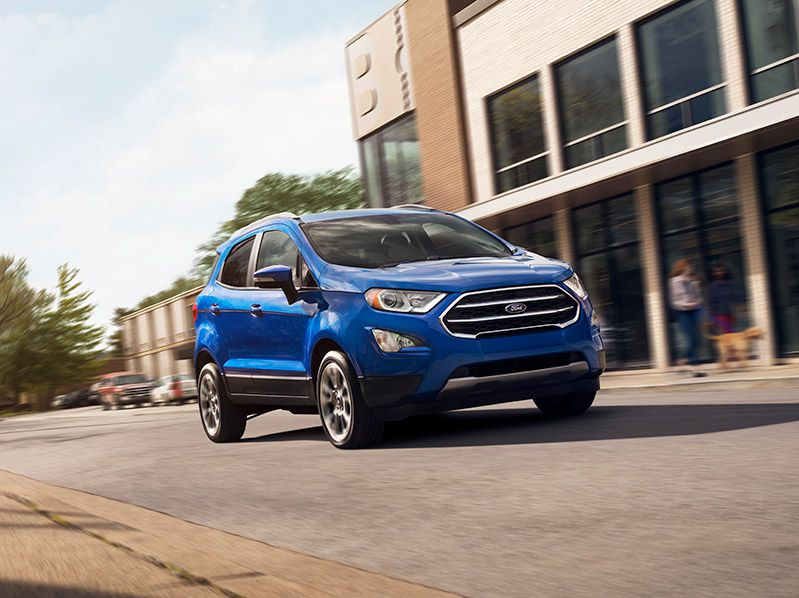car: (182, 196, 611, 451)
